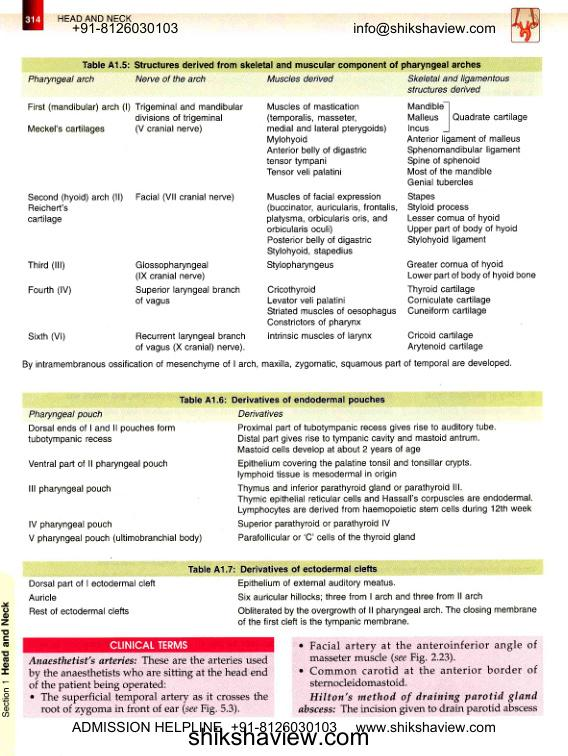caption: (80, 60, 482, 71), (177, 395, 386, 406), (187, 564, 379, 575), (109, 639, 189, 650)
header: (56, 13, 133, 22)
list: (297, 639, 541, 688), (29, 692, 271, 716)
sub-section-heading: (27, 655, 138, 665)
table: (21, 71, 538, 373), (23, 407, 541, 545), (23, 576, 542, 629)
text: (27, 655, 270, 692), (296, 691, 540, 716)
